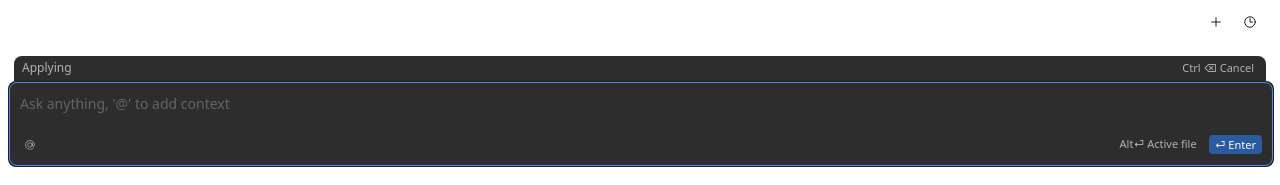
Chat apply scenarios: show apply cancellation
Expected: the element with test id "notch-applying-text" is shown, [22,58,88,79]
Click the text with test id "notch-applying-cancel-button". click: (1219, 68)
box: [1180,59,1258,78]
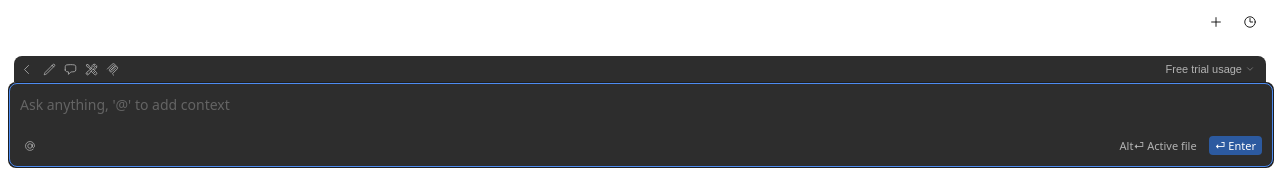
Expected: the element with test id "notch-applying-text" is gone
Expected: the text with test id "notch-applying-cancel-button" is gone
